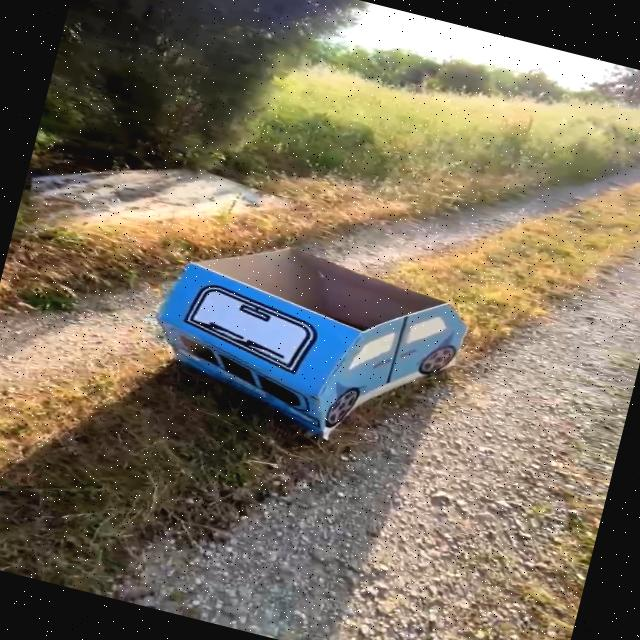blue_car: (98, 177, 522, 483)
